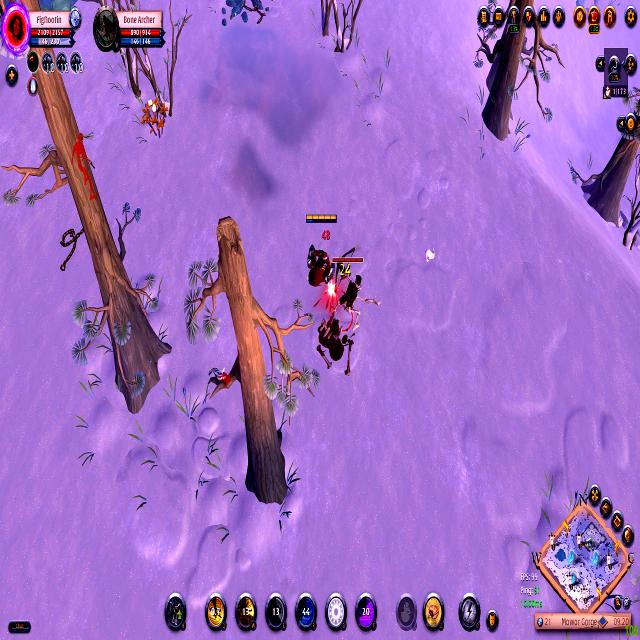hide: (135, 92, 171, 138)
ore: (328, 247, 367, 341), (66, 127, 102, 212)
red: (302, 208, 339, 294)
